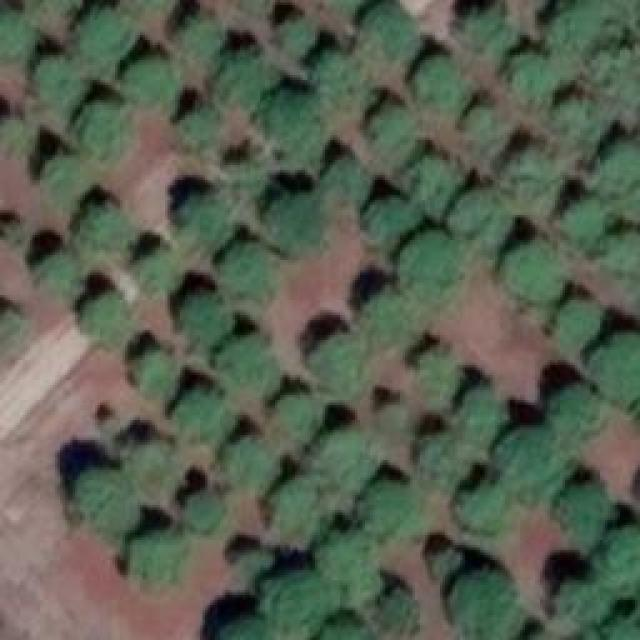Tree: (495, 433, 565, 503), (265, 88, 328, 158), (453, 570, 516, 638), (260, 580, 330, 640), (359, 0, 422, 62), (405, 235, 465, 298), (323, 538, 383, 601), (453, 388, 513, 451), (75, 0, 138, 58), (77, 98, 135, 161), (173, 290, 236, 348), (263, 480, 318, 545), (563, 483, 613, 553), (505, 240, 563, 300), (273, 193, 326, 258), (455, 187, 513, 245), (360, 485, 418, 543), (128, 530, 181, 593), (220, 335, 280, 390), (73, 473, 133, 528), (498, 140, 558, 195), (128, 435, 178, 500), (218, 47, 273, 105), (315, 330, 370, 388), (550, 385, 605, 443), (452, 483, 510, 538), (180, 187, 233, 245), (318, 432, 371, 490), (595, 335, 640, 403), (35, 55, 90, 110), (450, 5, 510, 55), (555, 575, 615, 625), (320, 153, 373, 208), (225, 433, 278, 488), (553, 3, 606, 58), (405, 428, 458, 483), (368, 290, 418, 348), (362, 198, 420, 248), (370, 102, 418, 160), (592, 150, 640, 208), (78, 203, 133, 253), (170, 390, 220, 443), (555, 95, 605, 148), (47, 150, 95, 205), (132, 245, 180, 298), (403, 152, 456, 200), (133, 350, 183, 400), (420, 58, 468, 110), (415, 348, 460, 403), (42, 245, 90, 295), (80, 290, 128, 340), (552, 300, 600, 350), (223, 245, 276, 290), (510, 52, 558, 100), (180, 13, 223, 66), (275, 388, 318, 441), (597, 42, 640, 95), (128, 50, 171, 100), (0, 8, 38, 63), (607, 524, 640, 587), (560, 202, 603, 250), (375, 588, 415, 638), (272, 15, 320, 55), (600, 237, 640, 285), (463, 103, 506, 146), (175, 102, 213, 150), (183, 488, 228, 528), (318, 53, 351, 96), (0, 308, 35, 348), (0, 113, 30, 156), (313, 622, 376, 640), (430, 548, 463, 578), (238, 550, 271, 578), (378, 405, 403, 440), (605, 615, 640, 640), (230, 0, 273, 18), (3, 220, 28, 248)
